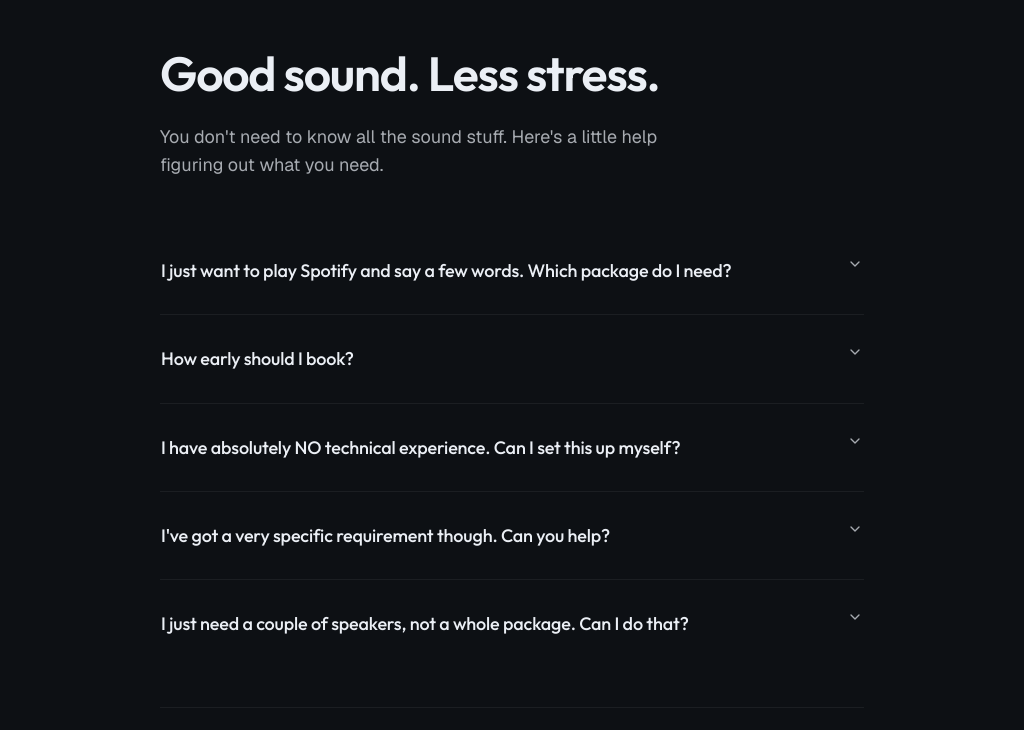
Test: static site pages › FAQ offers individual hire immediately after specific requirements in the owner's voice
Click the 5th button at coordinates (512, 624), box [160,580,864,667]
(page scrolled)
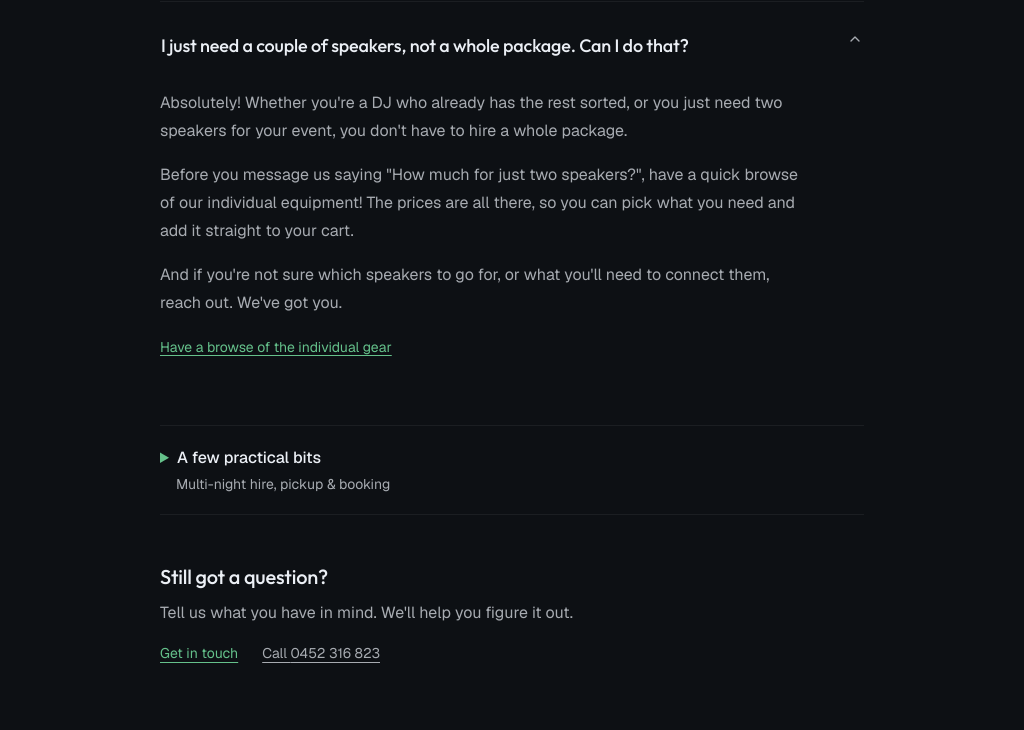
Now the text "Whether you're a DJ who already has the rest sorted" is shown, box [160,92,782,141]
Now the text "Before you message us saying \"How much for just two speakers?\"" is shown, box [160,164,798,241]
